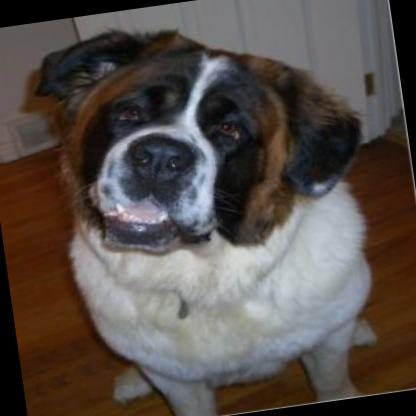Saint_Bernard: (23, 0, 395, 416)
